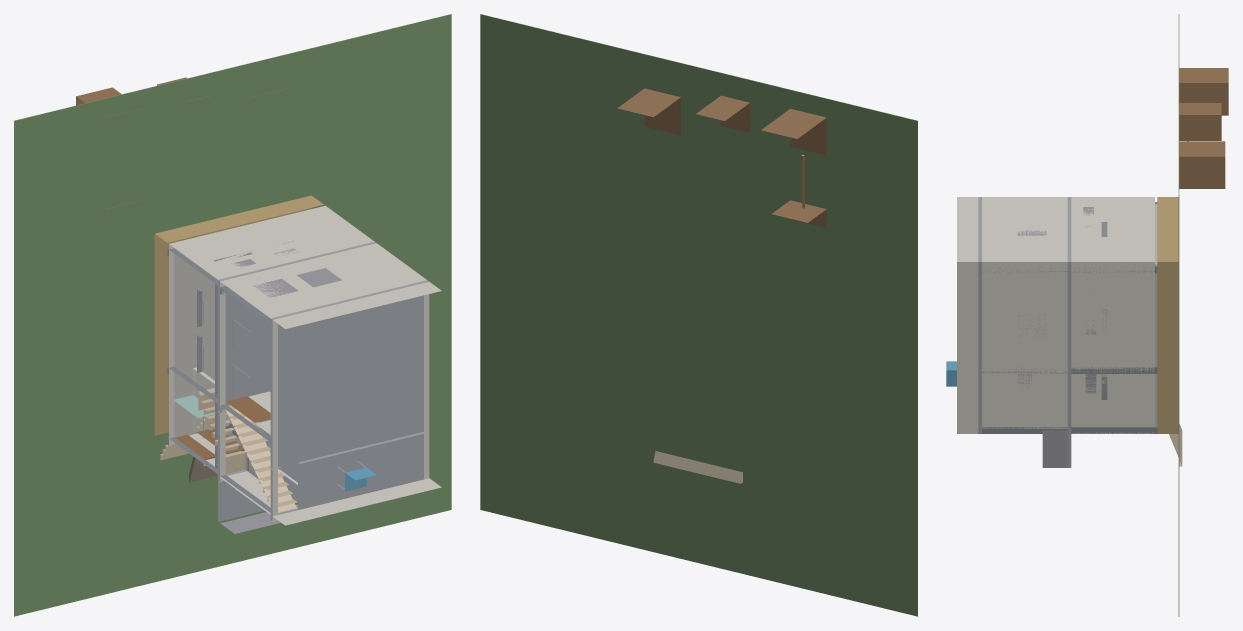
File: ground-floor.glb
3 renders of one model, left to right at view 1: azimuth 30°, elevation 25°; view 2: azimuth 150°, elevation 25°; view 3: azimuth 270°, elevation 25°, orthographic. The views are drawn at different scales.
Parts seen in each view (by area): view 1: ground_plane, roof_slab_1f_back, wall_back, wall_1f_back, roof_slab_1f_front_right, floor_slab, plinth, roof_slab_back, parapet_front, parapet_back, wall_1f_left, stair_slope_1f (+9 smaller); view 2: ground_plane, bw_soak_pit, ww_soak_pit, gw_soak_pit, ramp, septic_tank; view 3: wall_1f_right, wall_right, wall_back, wall_1f_back, plinth, parapet_right, ww_soak_pit, bw_soak_pit, gw_soak_pit, parapet_back, ground_plane, railing_terrace_right (+7 smaller).
Boxes of the visible parts, box(x1,y1,x2,y2) form: ground_plane: box(14, 14, 451, 616); roof_slab_1f_back: box(270, 280, 428, 468); wall_back: box(169, 205, 374, 279); wall_1f_back: box(220, 243, 426, 316); roof_slab_1f_front_right: box(298, 431, 423, 509); floor_slab: box(174, 248, 231, 437); plinth: box(154, 195, 323, 435); roof_slab_back: box(218, 241, 376, 411); parapet_front: box(272, 478, 441, 525); parapet_back: box(272, 281, 441, 328); wall_1f_left: box(220, 280, 275, 477); stair_slope_1f: box(226, 405, 296, 511); ground_plane: box(480, 14, 917, 616); bw_soak_pit: box(761, 108, 826, 155); ww_soak_pit: box(617, 88, 680, 135); gw_soak_pit: box(696, 95, 750, 132); ramp: box(653, 451, 742, 483); septic_tank: box(772, 200, 826, 227); wall_1f_right: box(982, 260, 1067, 428); wall_right: box(1071, 261, 1154, 433); wall_back: box(1071, 197, 1154, 266); wall_1f_back: box(982, 197, 1067, 265); plinth: box(1157, 197, 1178, 433); parapet_right: box(957, 261, 978, 428); ww_soak_pit: box(1179, 141, 1225, 188); bw_soak_pit: box(1179, 68, 1228, 115); gw_soak_pit: box(1179, 103, 1221, 140); parapet_back: box(957, 197, 978, 266); ground_plane: box(1178, 14, 1179, 616); railing_terrace_right: box(1042, 429, 1067, 467).
Size of the model in its own units: 18.29 by 19.81 by 12.04.
